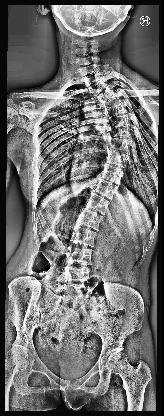Vertebrae: (66, 210, 112, 226), (60, 246, 96, 264), (60, 230, 104, 244), (58, 268, 96, 282), (104, 151, 140, 165), (111, 136, 141, 152), (80, 197, 118, 209), (100, 167, 132, 181), (91, 182, 124, 194), (112, 124, 140, 136), (110, 114, 136, 124), (91, 92, 119, 98), (80, 77, 108, 83), (100, 100, 124, 106), (86, 86, 118, 90), (104, 108, 134, 112)
